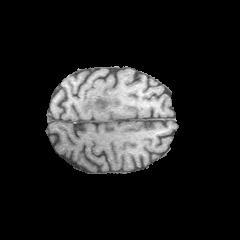glioma: (84, 89, 121, 114)
